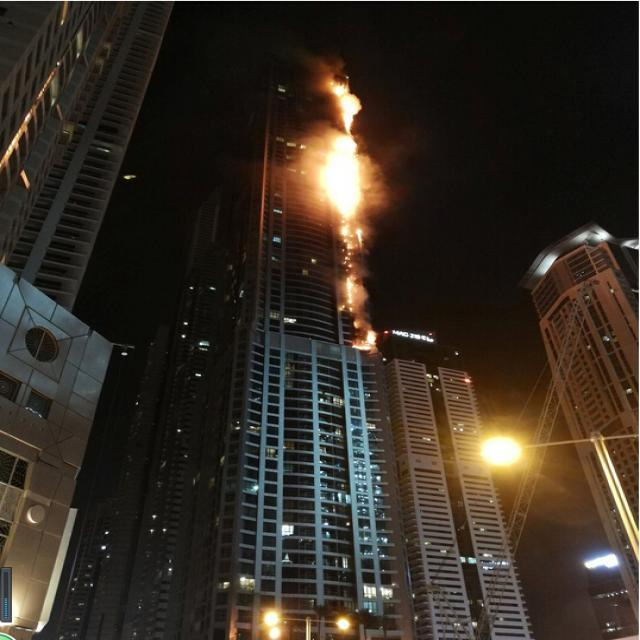Fire: (320, 133, 362, 220), (320, 79, 366, 132), (340, 220, 366, 264), (351, 324, 379, 352), (344, 275, 364, 310)
